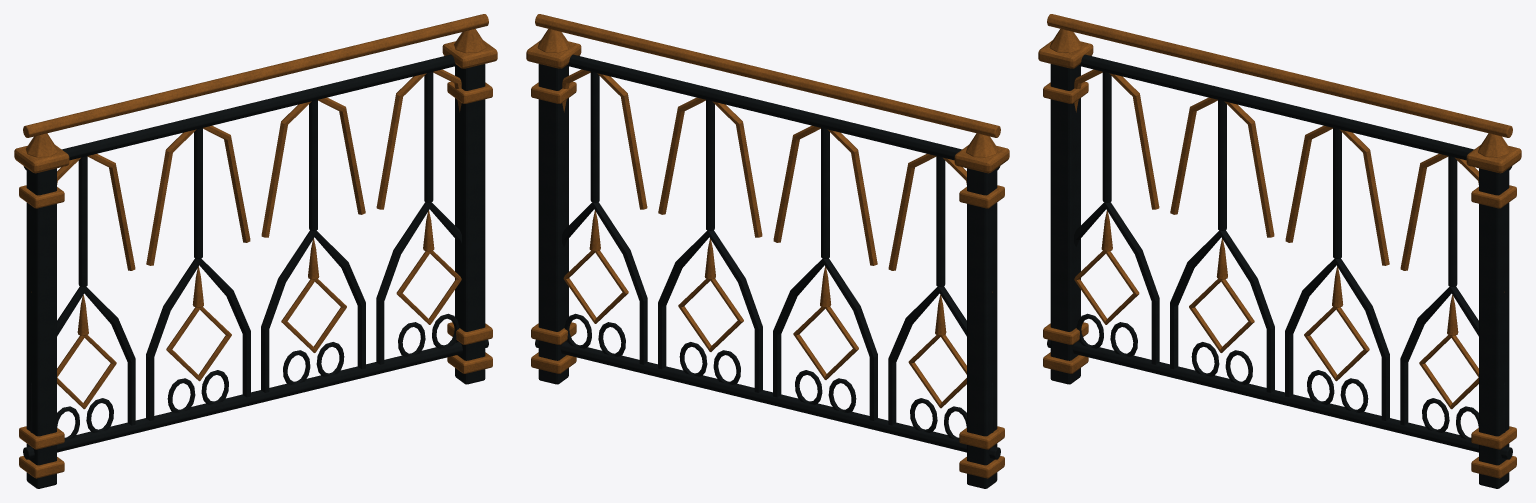
The model's file is railing_high.fbx.
The picture shows the model from 3 angles, left to right: view 1: azimuth 30°, elevation 25°; view 2: azimuth 150°, elevation 25°; view 3: azimuth 330°, elevation 25°; orthographic projection.
Visible parts, largest first — view 1: railing_high_ironwork, railing_high_structure, railing_high_posts; view 2: railing_high_ironwork, railing_high_structure, railing_high_posts; view 3: railing_high_ironwork, railing_high_structure, railing_high_posts.
Boxes of the visible parts, box(x1,y1,x2,y2) form: railing_high_ironwork: box(23, 14, 488, 459); railing_high_structure: box(19, 64, 492, 488); railing_high_posts: box(14, 40, 497, 173); railing_high_ironwork: box(535, 14, 1000, 459); railing_high_structure: box(531, 64, 1004, 488); railing_high_posts: box(526, 40, 1009, 173); railing_high_ironwork: box(1047, 14, 1512, 459); railing_high_structure: box(1043, 64, 1516, 488); railing_high_posts: box(1038, 40, 1521, 173).
Size of the model in its own units: 202 by 150 by 16.
2 materials, 2 textured.
